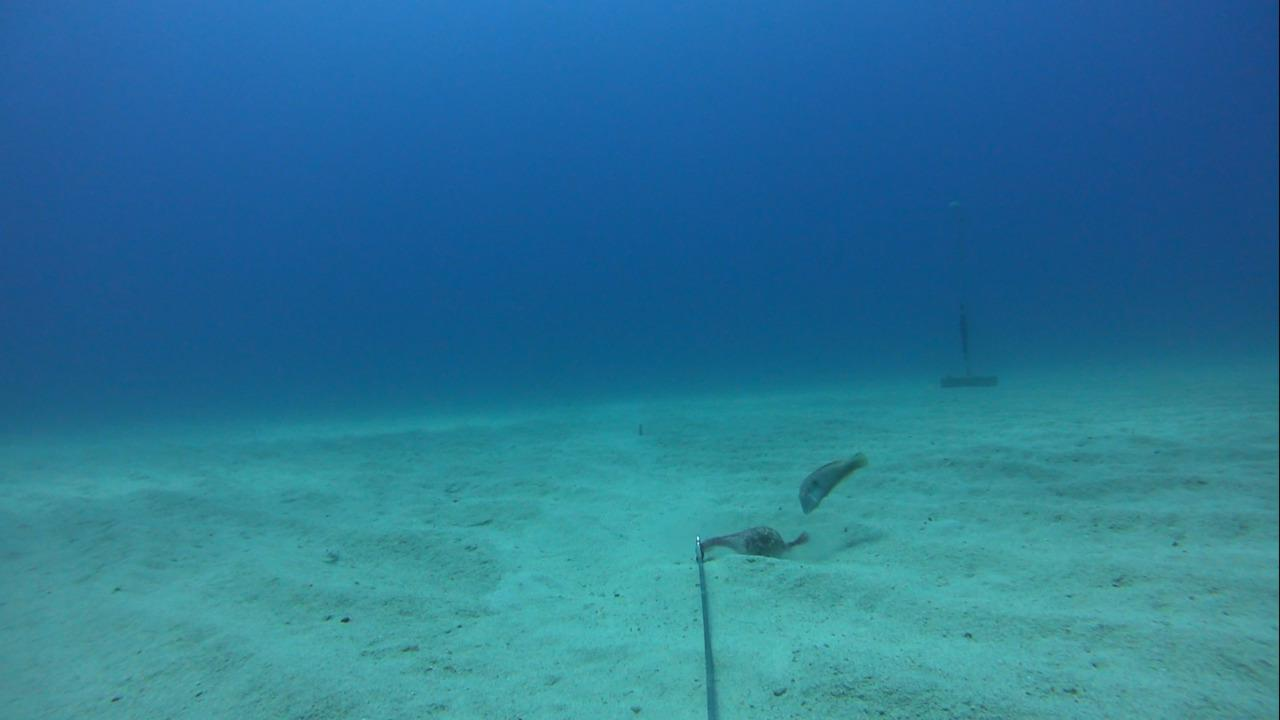raor: (789, 443, 875, 521)
